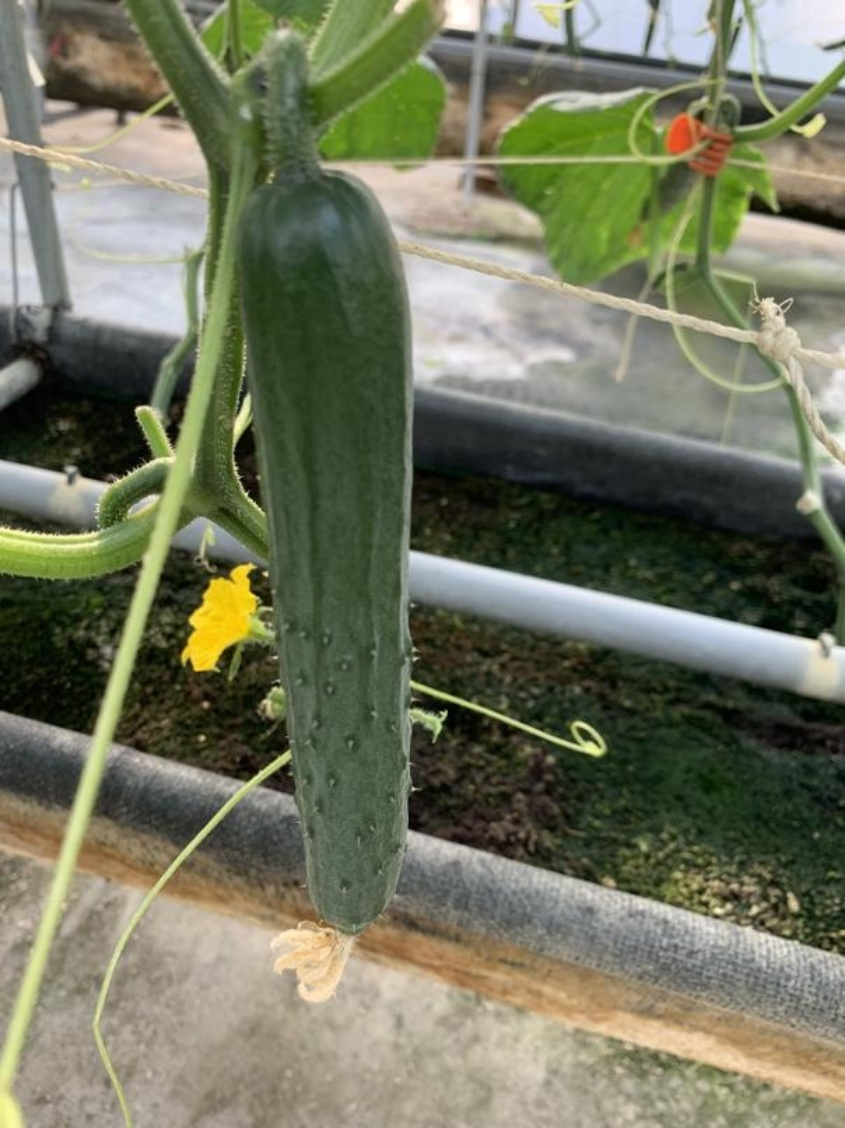mature: (211, 175, 439, 928)
